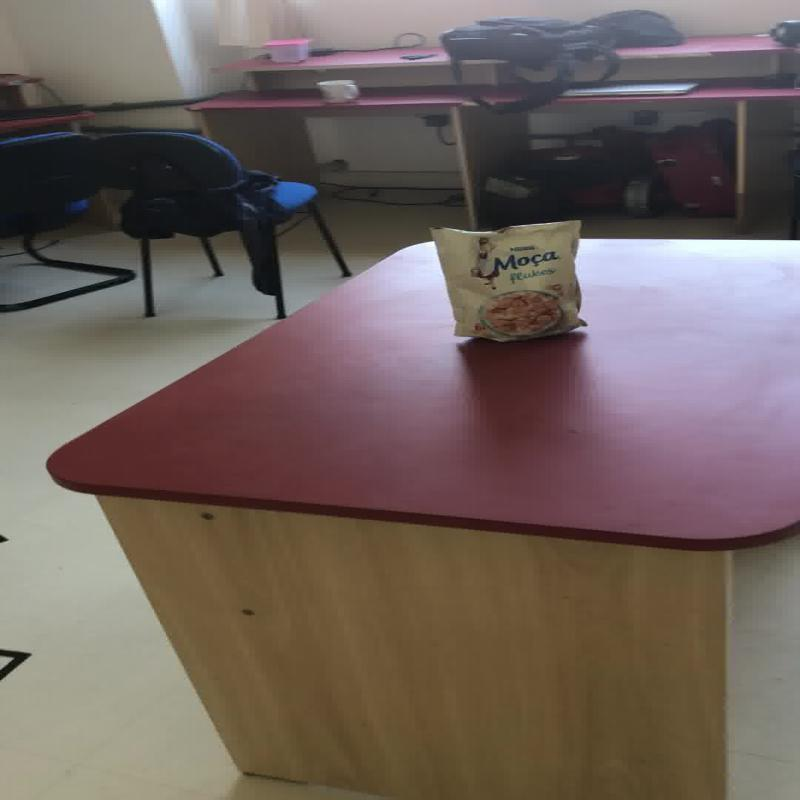corn flakes: (427, 218, 586, 342), (478, 289, 561, 335)
